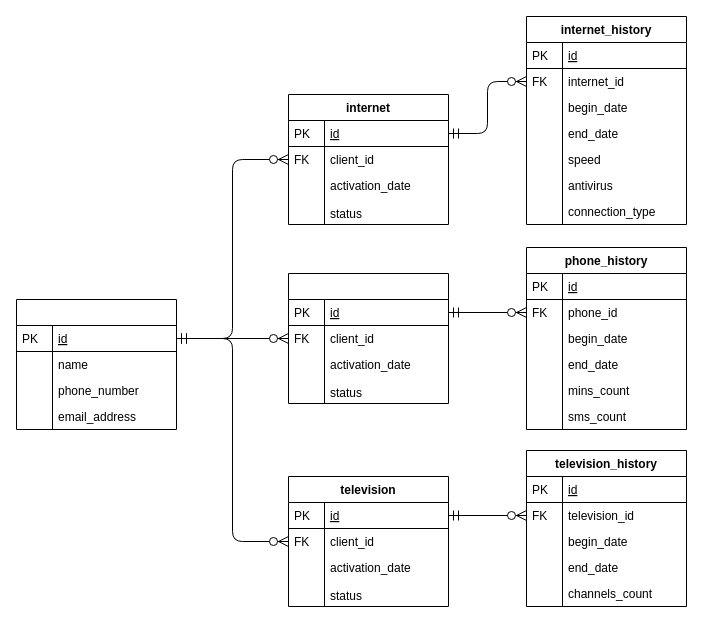
This 703x623 diagram has some shape labels left out. Here are the shapes that lost their labels. From the top down, the box of each, then its label:
(288, 272, 448, 404): phone
(16, 298, 176, 430): client
